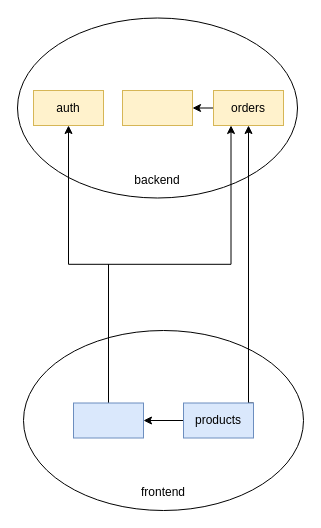
Image size: 321x528. Some labels were removed from this diagram. Here are the shapes that lost their labels. From the top down, the box of each, then its label:
(122, 90, 192, 126): billing
(72, 402, 144, 438): host
